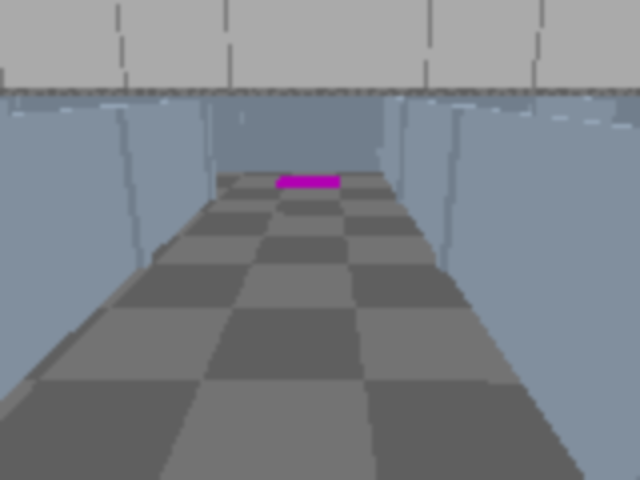goal_zone: (274, 176, 341, 189)
